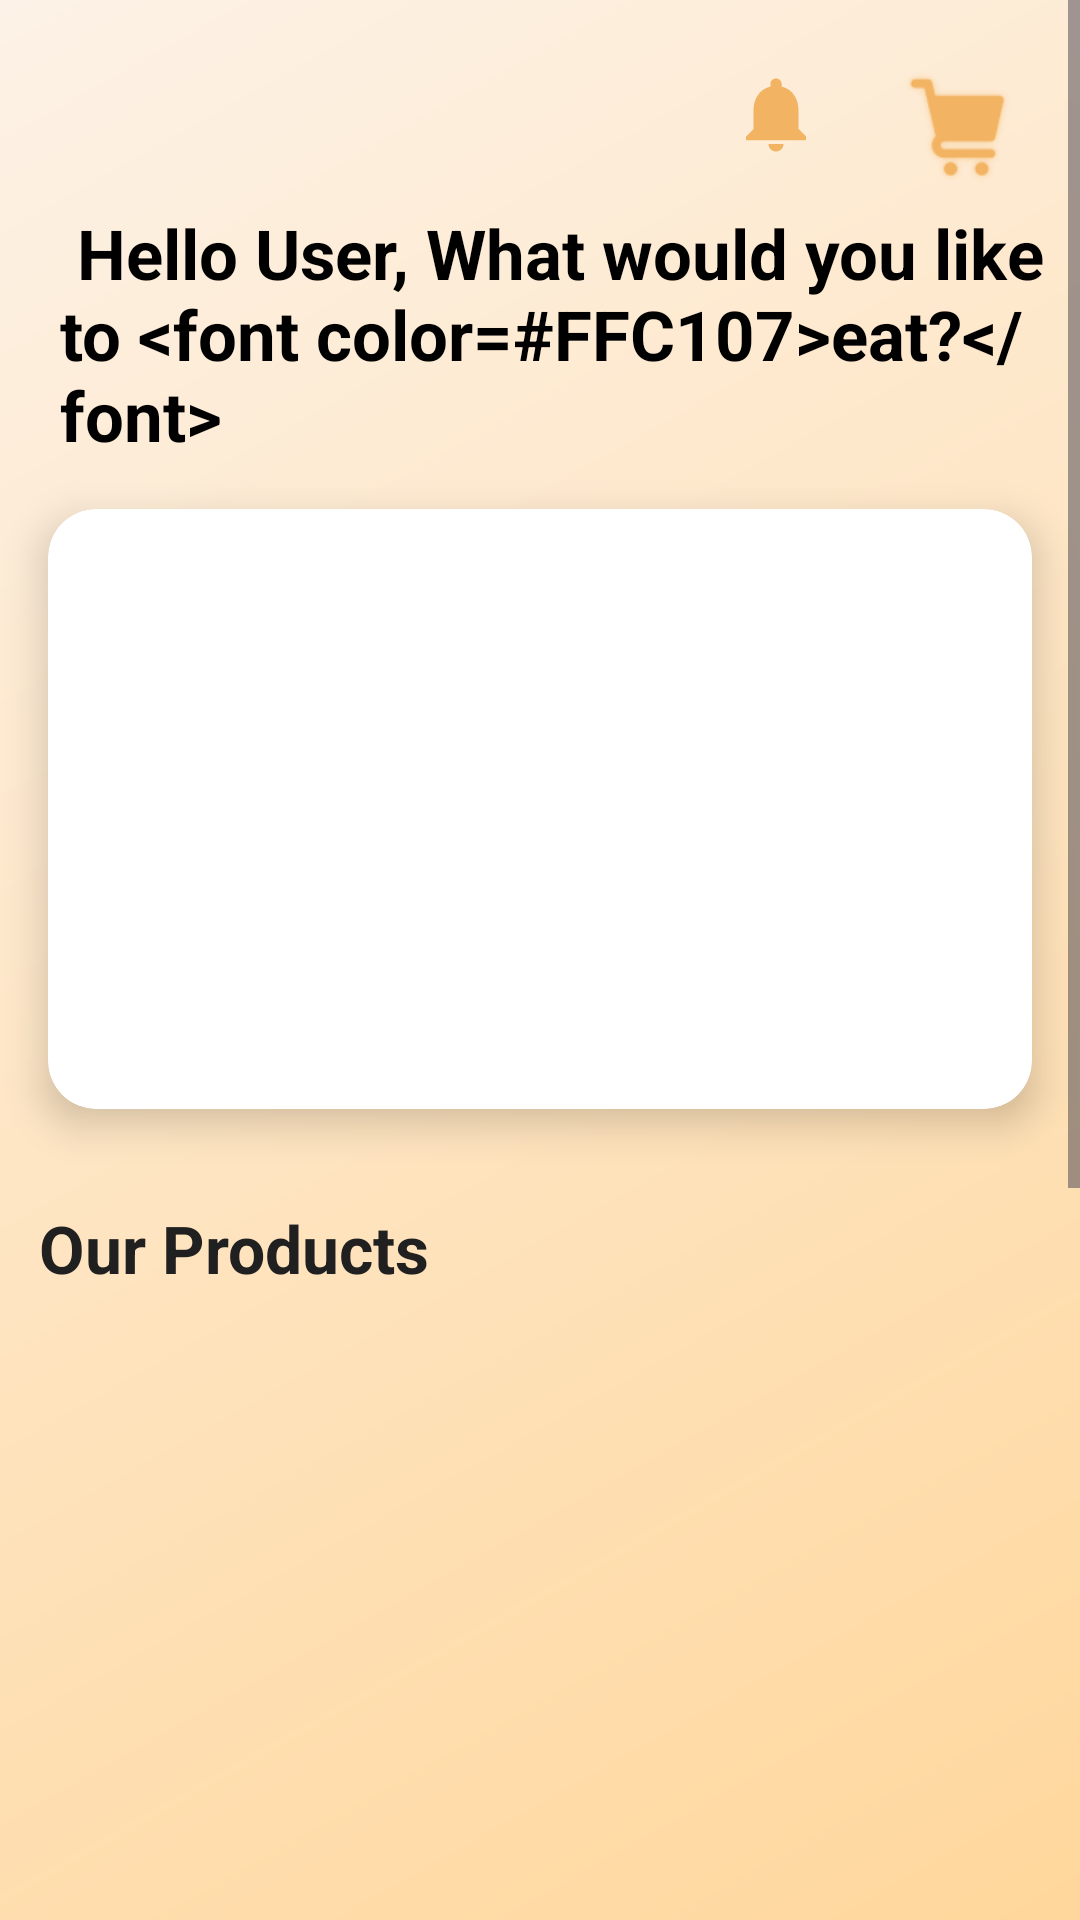

Icon click points for this 1080 × 1920 phone screenshot, format (x=x, y=y):
notify: (x=776, y=115)
